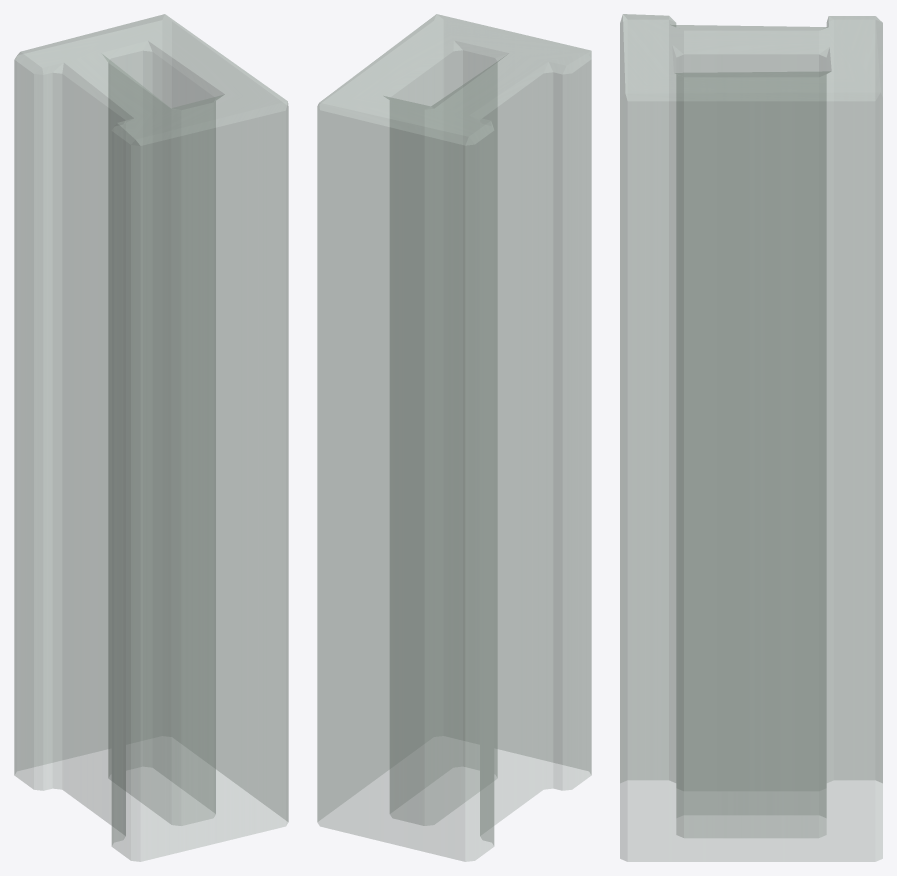
3 renders of one model, left to right at view 1: azimuth 30°, elevation 25°; view 2: azimuth 150°, elevation 25°; view 3: azimuth 270°, elevation 25°, orthographic. The views are drawn at different scales.
Parts seen in each view (by area): view 1: D; view 2: D; view 3: D.
Boxes of the visible parts, x1,y1,x2,y2 form: D: [14, 14, 288, 861]; D: [317, 14, 591, 861]; D: [620, 14, 882, 861].
Size of the model in its own units: 0.4429 by 1.94 by 0.6019.
1 material, 1 textured.
